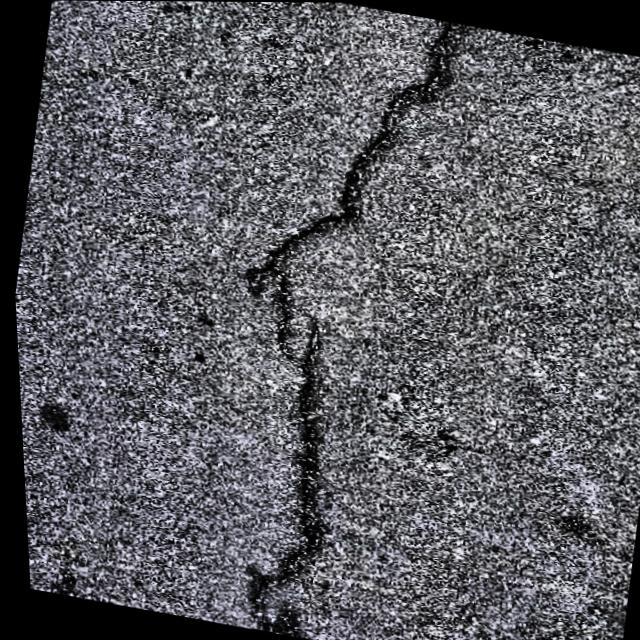cracks: (247, 19, 458, 354), (250, 316, 319, 637)
